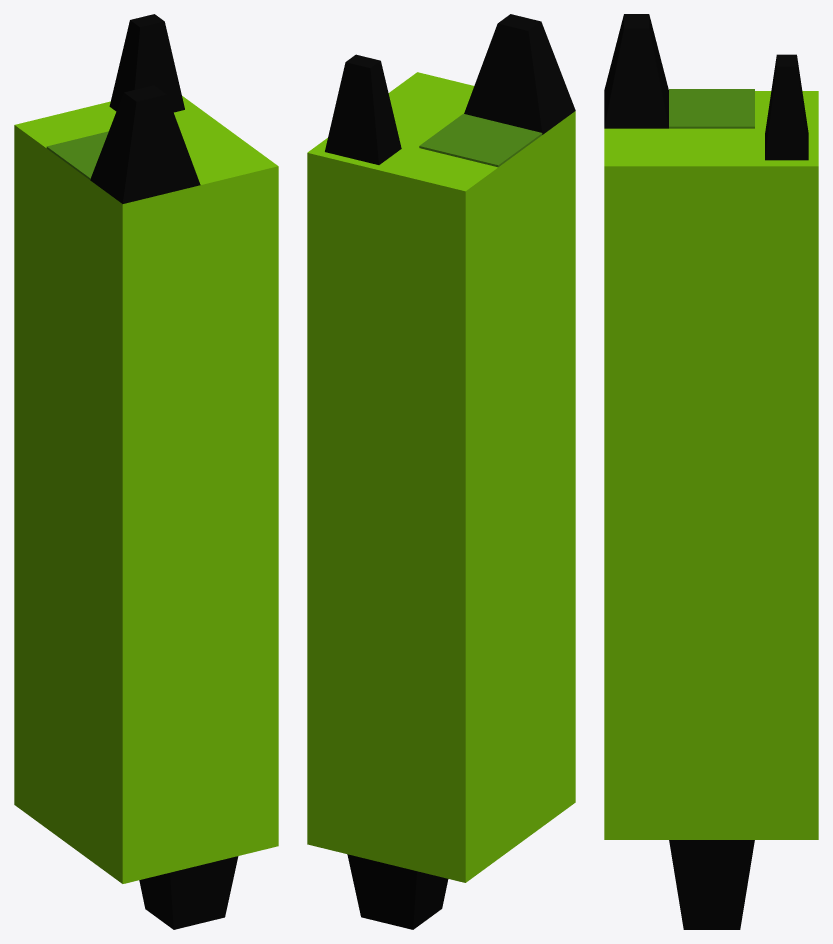
File: Fusible_2.fbx
The picture shows the model from 3 angles, left to right: view 1: azimuth 30°, elevation 25°; view 2: azimuth 150°, elevation 25°; view 3: azimuth 270°, elevation 25°; orthographic projection. The views are drawn at different scales.
Parts seen in each view (by area): view 1: Fusible.001; view 2: Fusible.001; view 3: Fusible.001.
Part boxes in pixels (bbox=[...]): Fusible.001: bbox=[14, 14, 278, 929]; Fusible.001: bbox=[307, 14, 575, 929]; Fusible.001: bbox=[604, 14, 818, 929].
Size of the model in its own units: 47.93 by 255 by 57.74.
